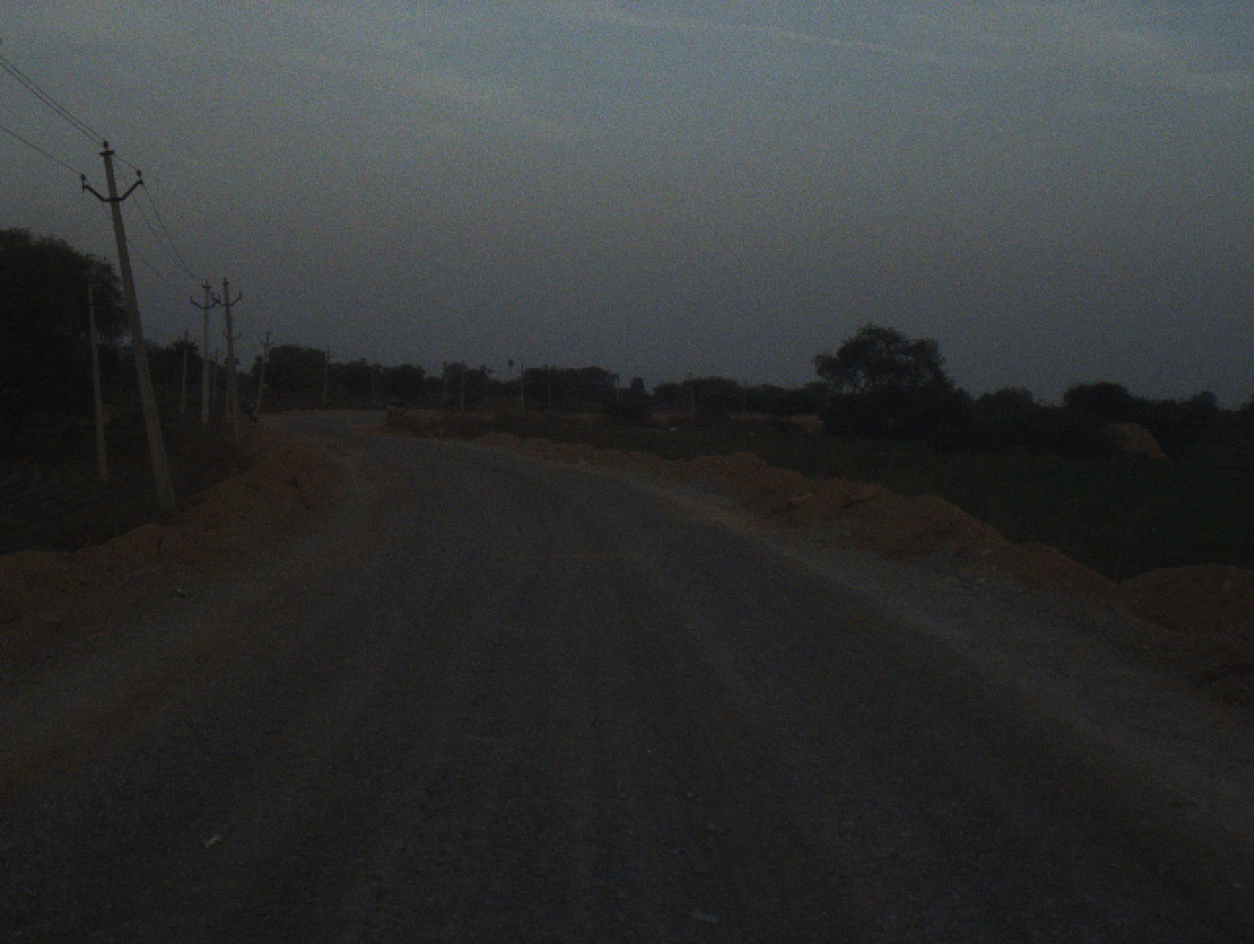autorickshaw: (385, 395, 408, 411)
